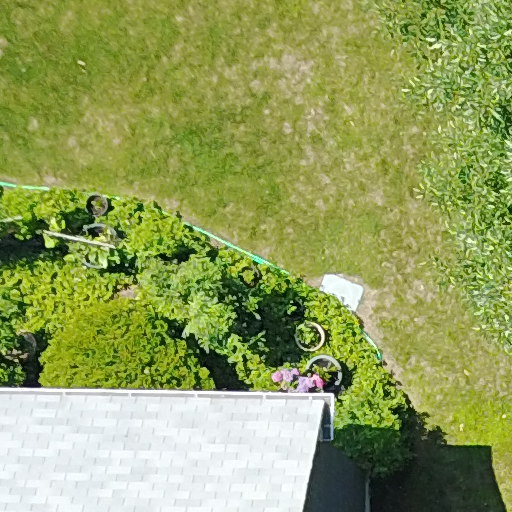pot: (65, 220, 134, 278), (292, 346, 347, 388), (291, 318, 332, 353), (80, 191, 118, 223)
